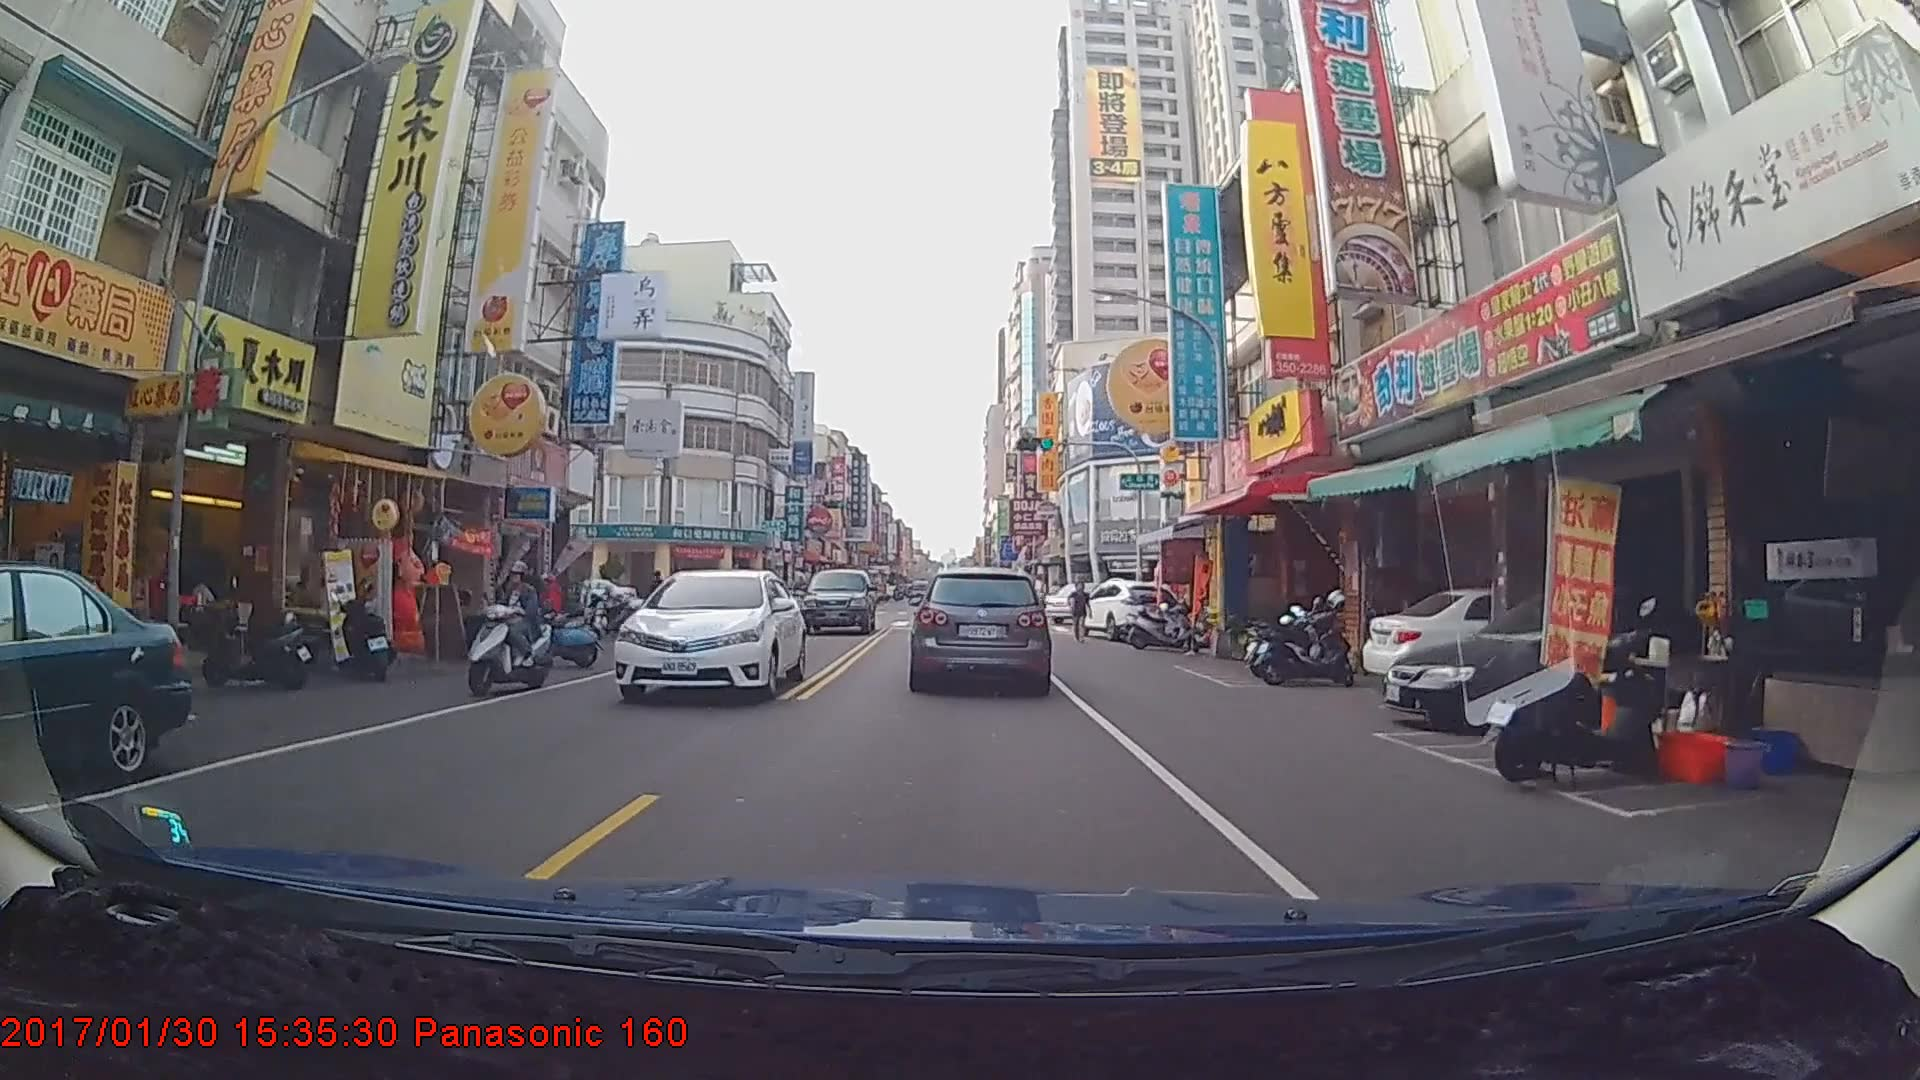pedestrian: (1070, 582, 1091, 646)
rider: (461, 562, 569, 702)
vehicle: (0, 561, 190, 789), (612, 567, 803, 707), (910, 566, 1048, 691), (1076, 577, 1183, 640), (796, 567, 876, 635)
